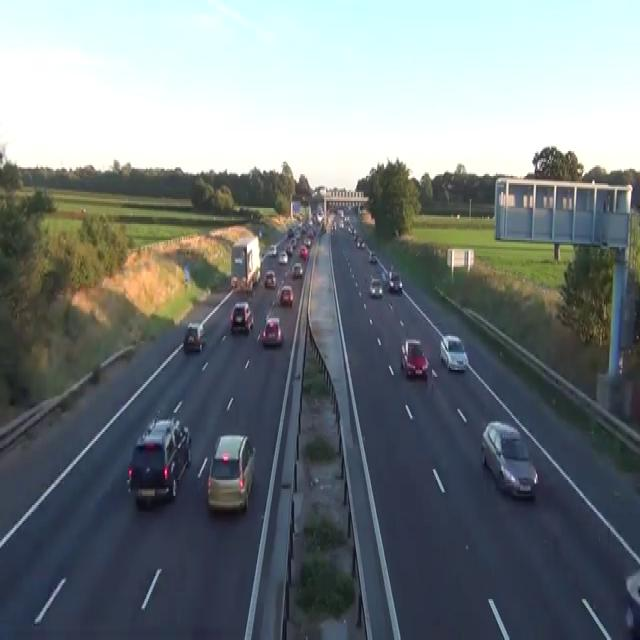Car: (126, 414, 191, 507), (480, 420, 538, 498), (206, 434, 255, 512), (400, 338, 429, 378), (439, 334, 468, 372), (624, 569, 639, 636), (229, 300, 253, 332), (183, 322, 205, 352), (260, 316, 282, 345), (278, 282, 293, 306), (369, 277, 383, 297), (388, 272, 402, 292), (264, 268, 276, 288), (292, 262, 303, 278), (278, 249, 288, 263), (299, 246, 308, 260), (268, 244, 277, 256), (356, 238, 365, 249), (369, 251, 377, 263), (230, 276, 237, 288), (285, 244, 292, 256), (303, 237, 311, 247), (290, 236, 296, 249), (320, 222, 326, 233), (260, 249, 265, 261), (317, 212, 323, 222), (287, 228, 293, 236), (258, 230, 262, 238)
Truck: (230, 234, 261, 292)
